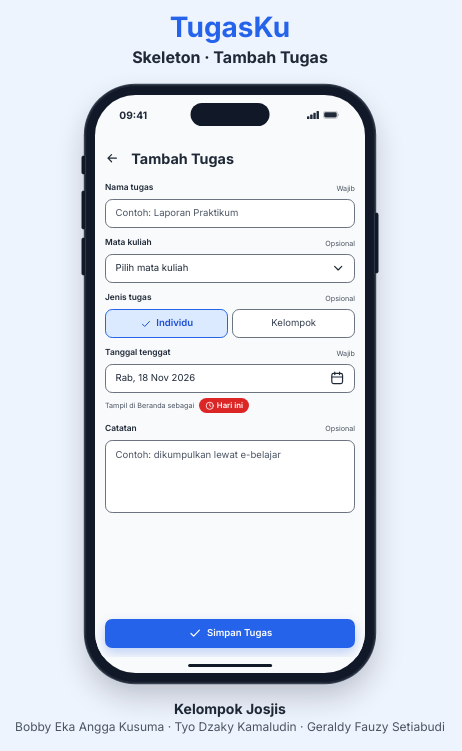
App › gagal menyimpan menampilkan pesan dan isian tidak hilang
This screenshot has width=462, height=751.
Type "Laporan Praktikum" into the field labelled "Nama tugas". click: (230, 214)
box: [105,199,355,228]
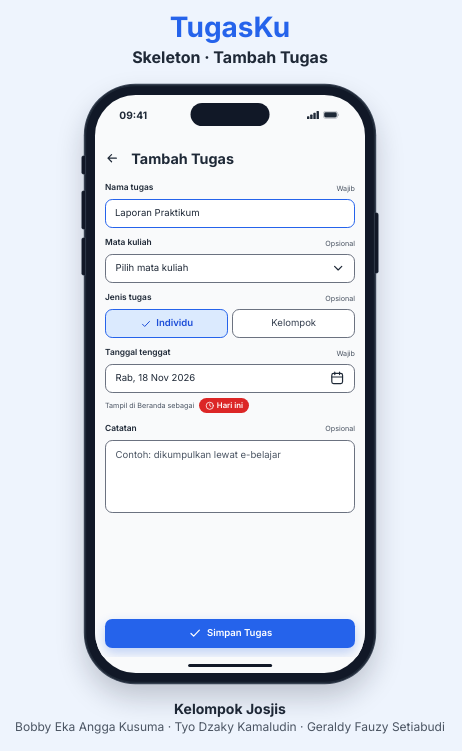
Click the button "Simpan Tugas". click: (230, 633)
box: [105,619,355,648]
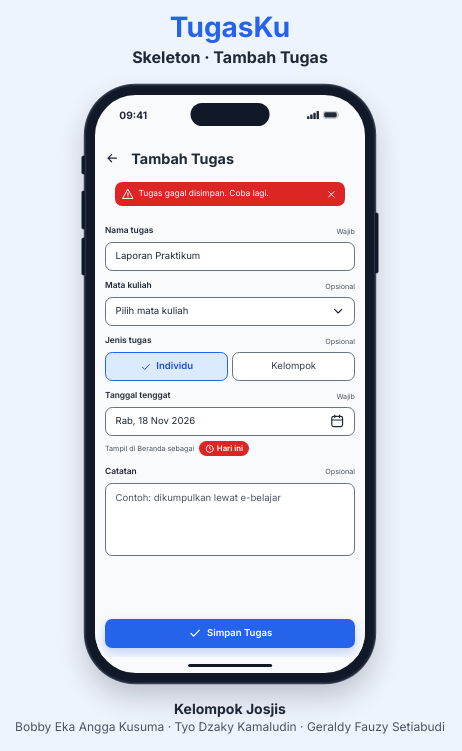
Result: the text "Tugas gagal disimpan. Coba lagi." is shown at [138,188,269,198]
